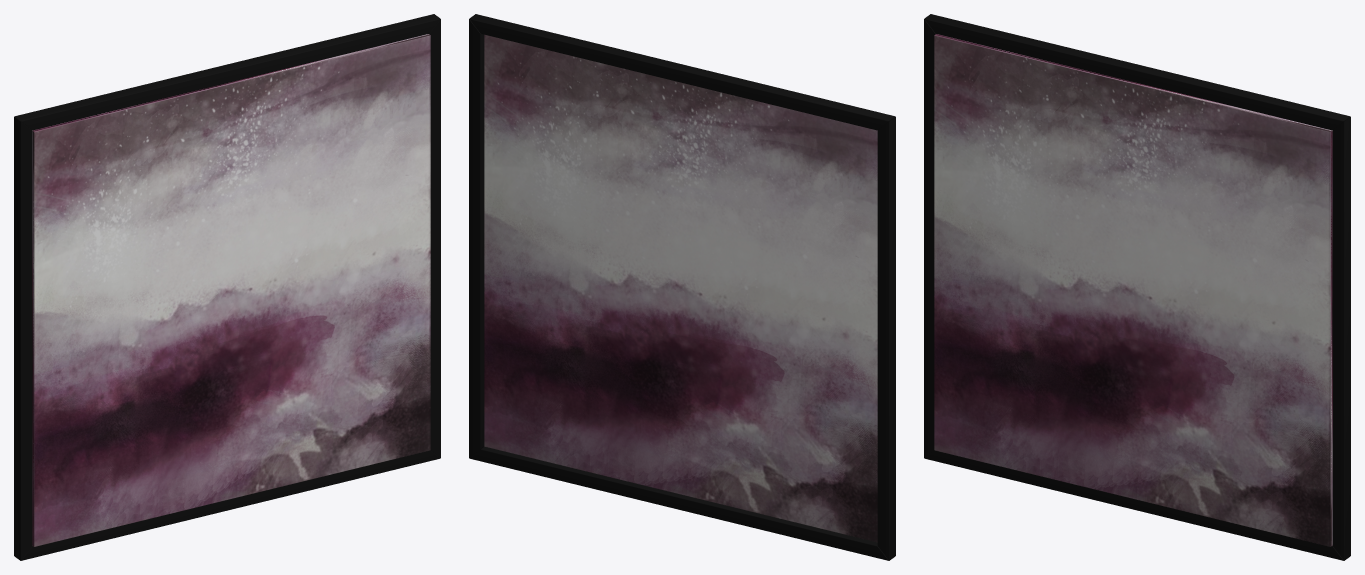
Rendered from art10.dae.
3 renders of one model, left to right at view 1: azimuth 30°, elevation 25°; view 2: azimuth 150°, elevation 25°; view 3: azimuth 330°, elevation 25°, orthographic.
Parts seen in each view (by area): view 1: group_0, group_1; view 2: group_0, group_1; view 3: group_0, group_1.
Part boxes in pixels (x1,y1,x2,y2): group_0: [32, 34, 430, 546]; group_1: [14, 14, 440, 560]; group_0: [484, 34, 877, 542]; group_1: [469, 14, 895, 560]; group_0: [934, 34, 1332, 546]; group_1: [924, 14, 1350, 560].
Size of the model in its own units: 35.5 by 1.25 by 35.5.
3 materials, 2 textured.
